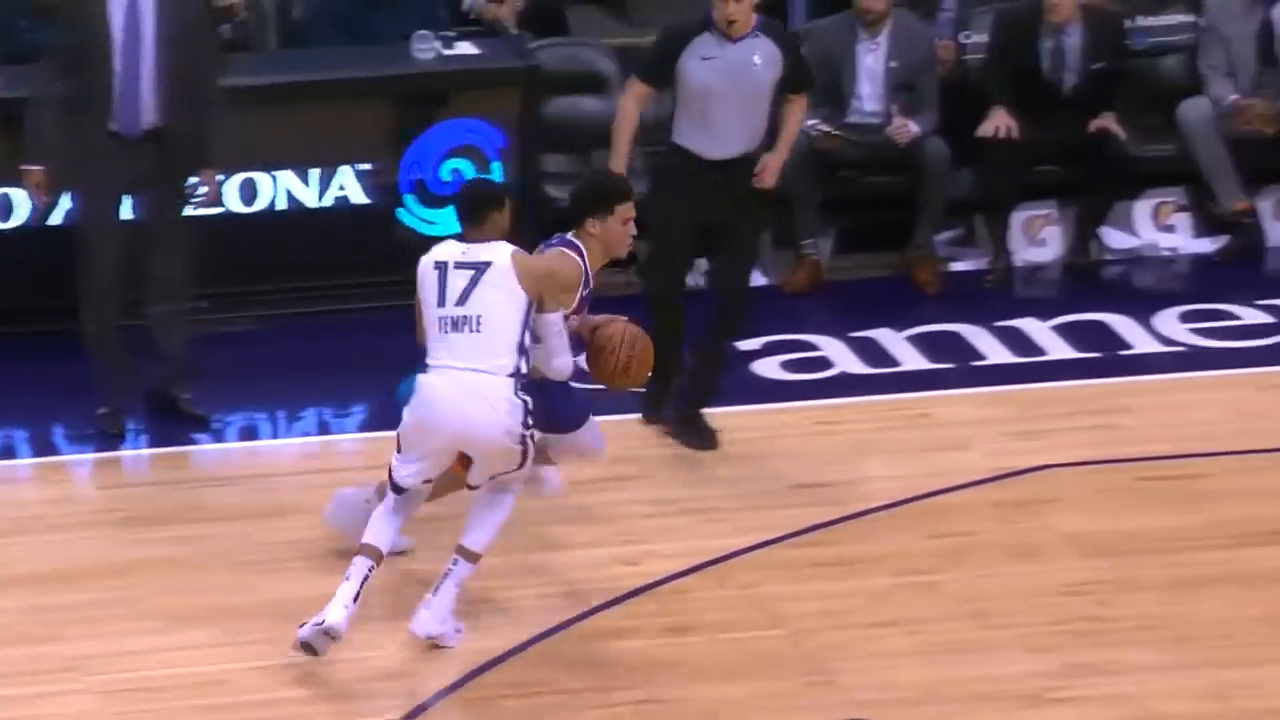ball: (586, 321, 653, 388)
